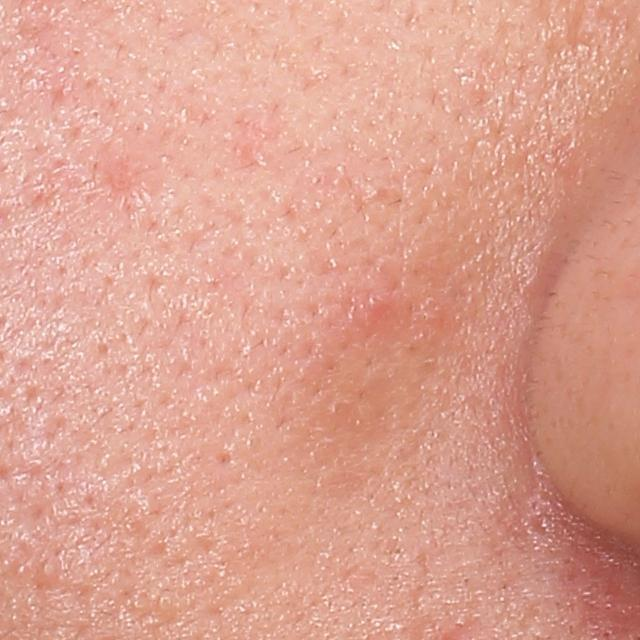comedo: (36, 553, 64, 586)
